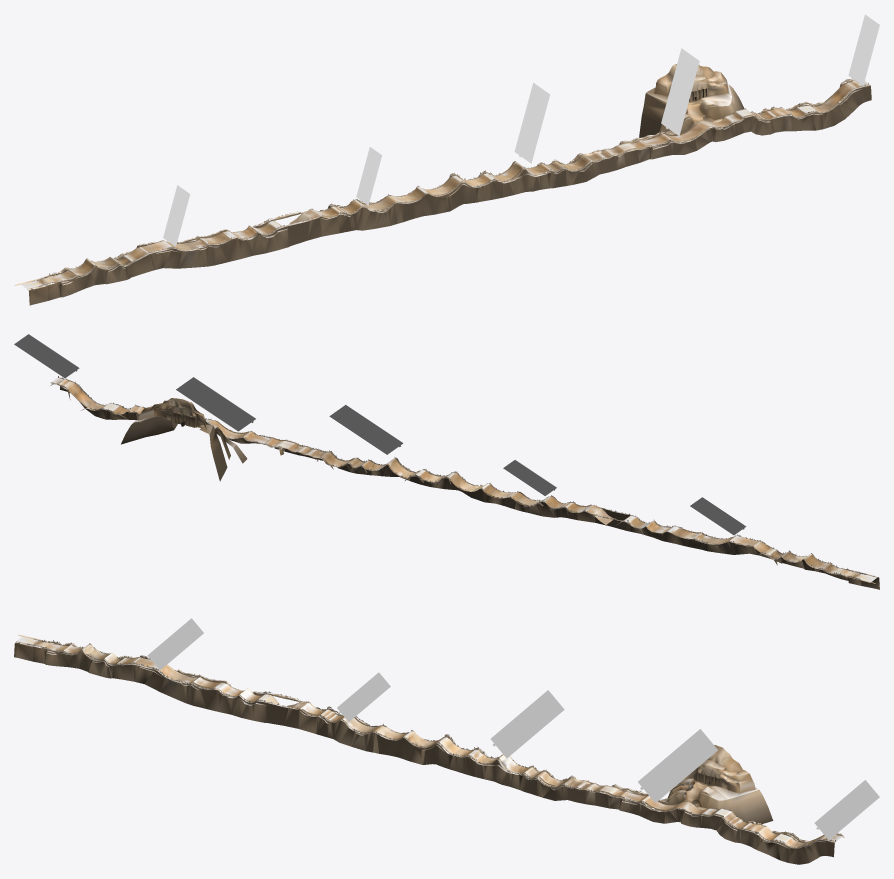
Rendered from Desert_09.fbx.
The picture shows the model from 3 angles, top to bottom: view 1: azimuth 30°, elevation 25°; view 2: azimuth 150°, elevation 25°; view 3: azimuth 330°, elevation 25°; orthographic projection. The views are drawn at different scales.
Parts seen in each view (by area): view 1: Mountain_01, Light_01, Ground_01, Tree_01, Road_01; view 2: Mountain_01, Light_01, Ground_01, Tree_01, Road_01; view 3: Mountain_01, Light_01, Ground_01, Tree_01, Road_01.
Boxes of the visible parts, x1,y1,x2,y2 form: Mountain_01: (28,64,871,305); Light_01: (163,14,879,246); Ground_01: (21,80,868,288); Tree_01: (38,78,868,286); Road_01: (27,80,868,289); Mountain_01: (50,377,879,589); Light_01: (14,334,746,535); Ground_01: (51,377,876,581); Tree_01: (51,376,866,577); Road_01: (50,377,877,582); Mountain_01: (14,641,844,864); Light_01: (147,618,879,839); Ground_01: (17,636,842,847); Tree_01: (27,640,842,848); Road_01: (16,638,843,848).
Size of the model in its own units: 99724 by 10769 by 7530.
